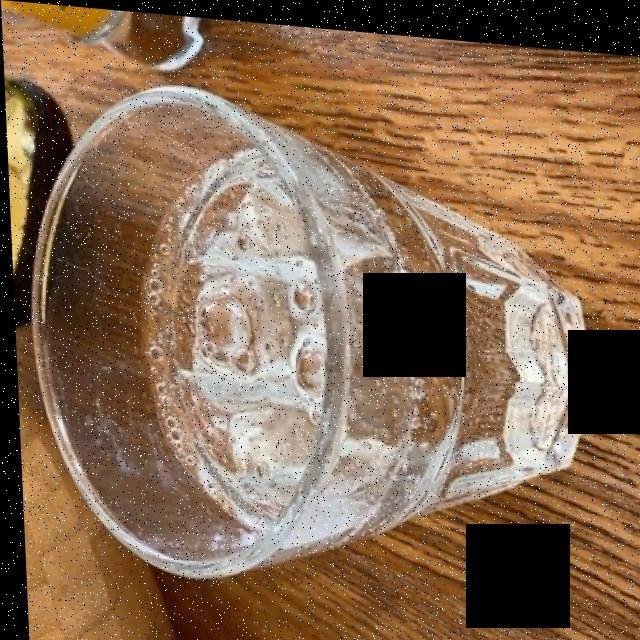water: (133, 150, 323, 524)
